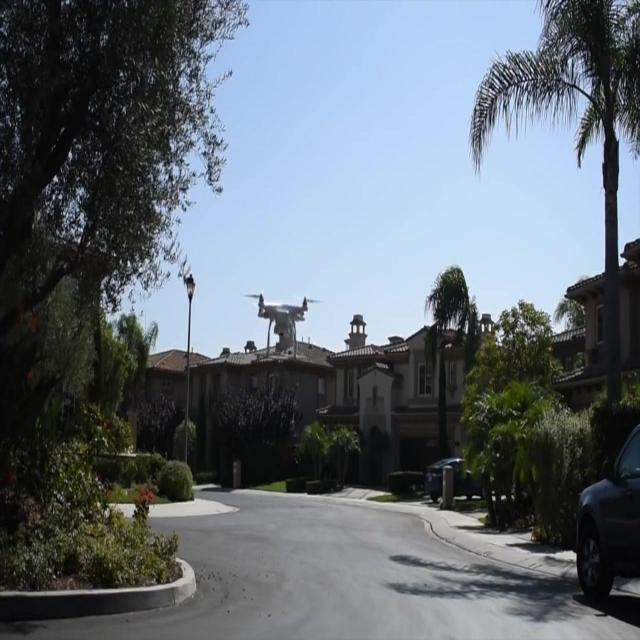drone: (243, 291, 324, 363)
